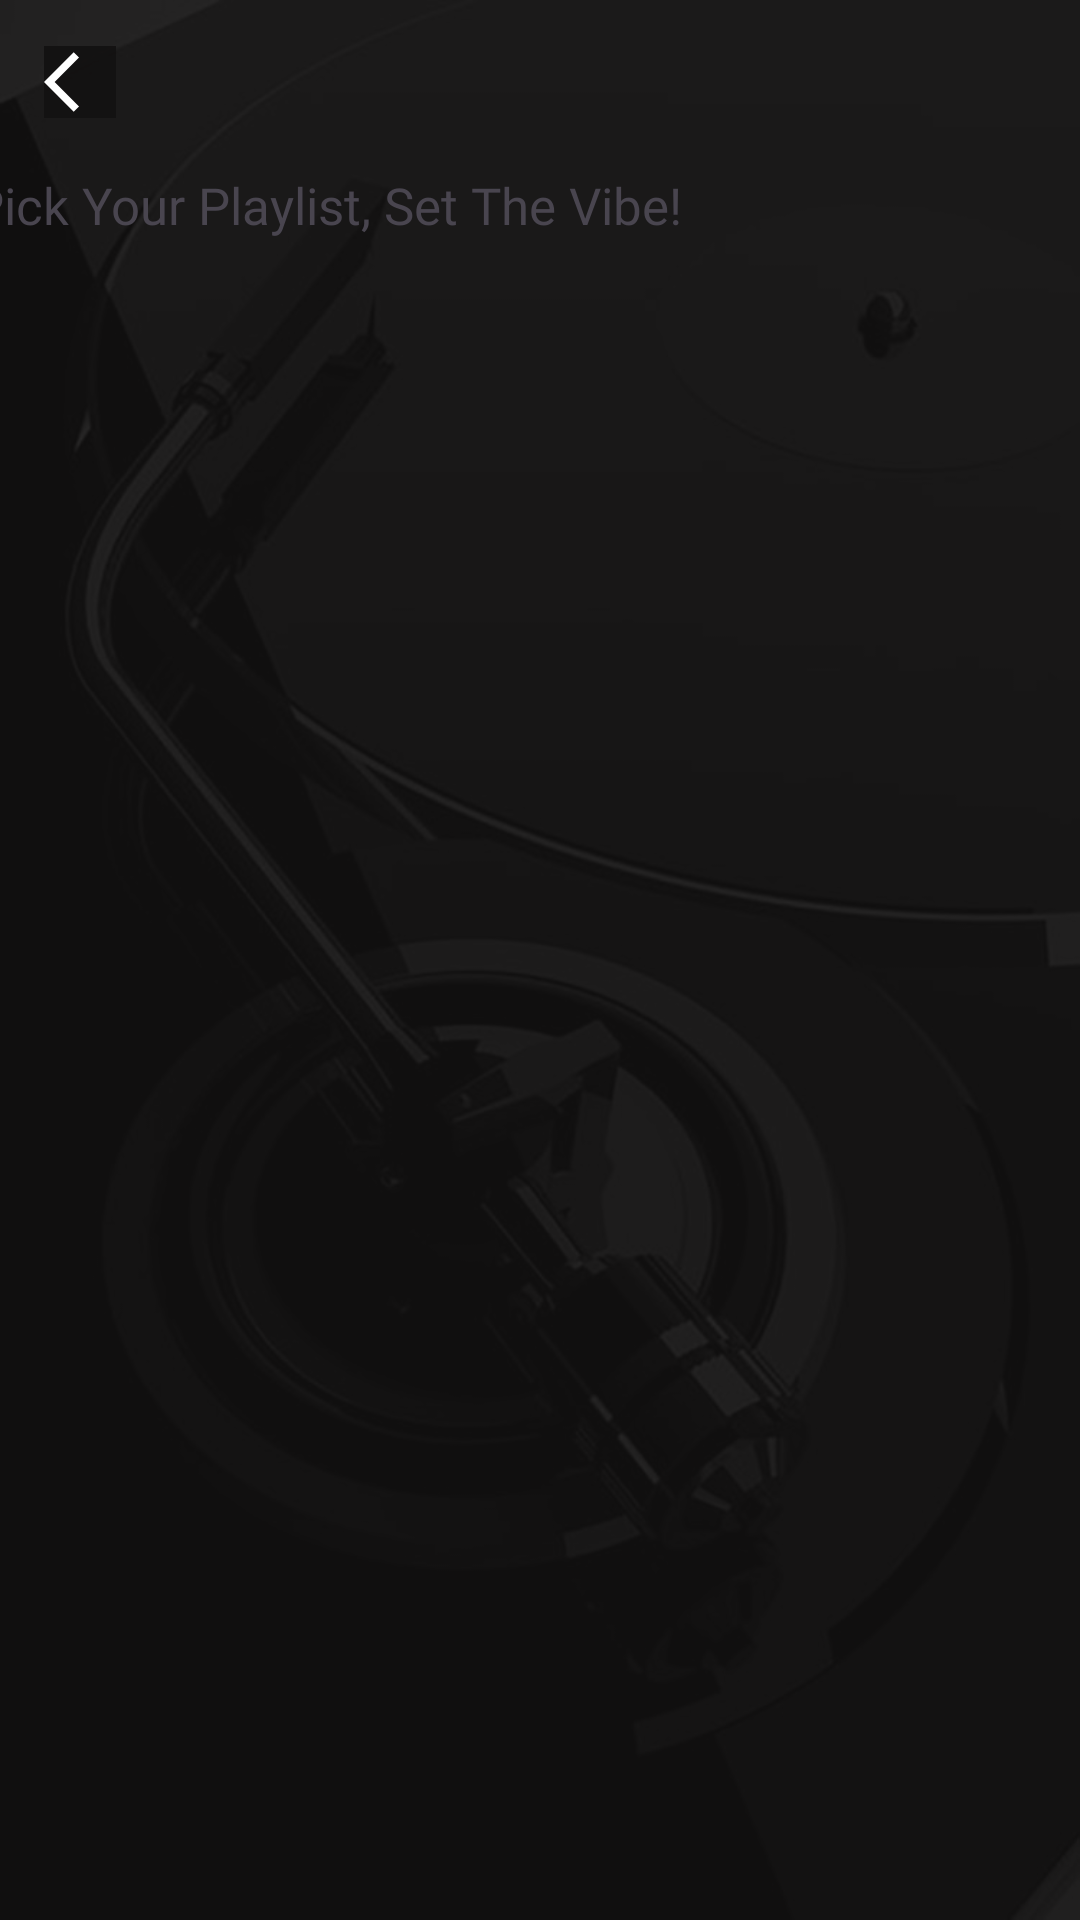

Icons on this 1080px x 1920px Android screen, each with its box as box=[x1, y1, x2, y2]:
arrow back: box=[44, 46, 116, 118]
